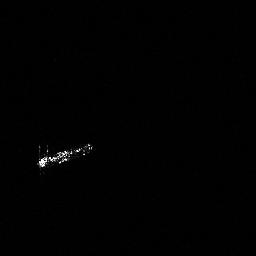ship: (35, 140, 98, 177)
